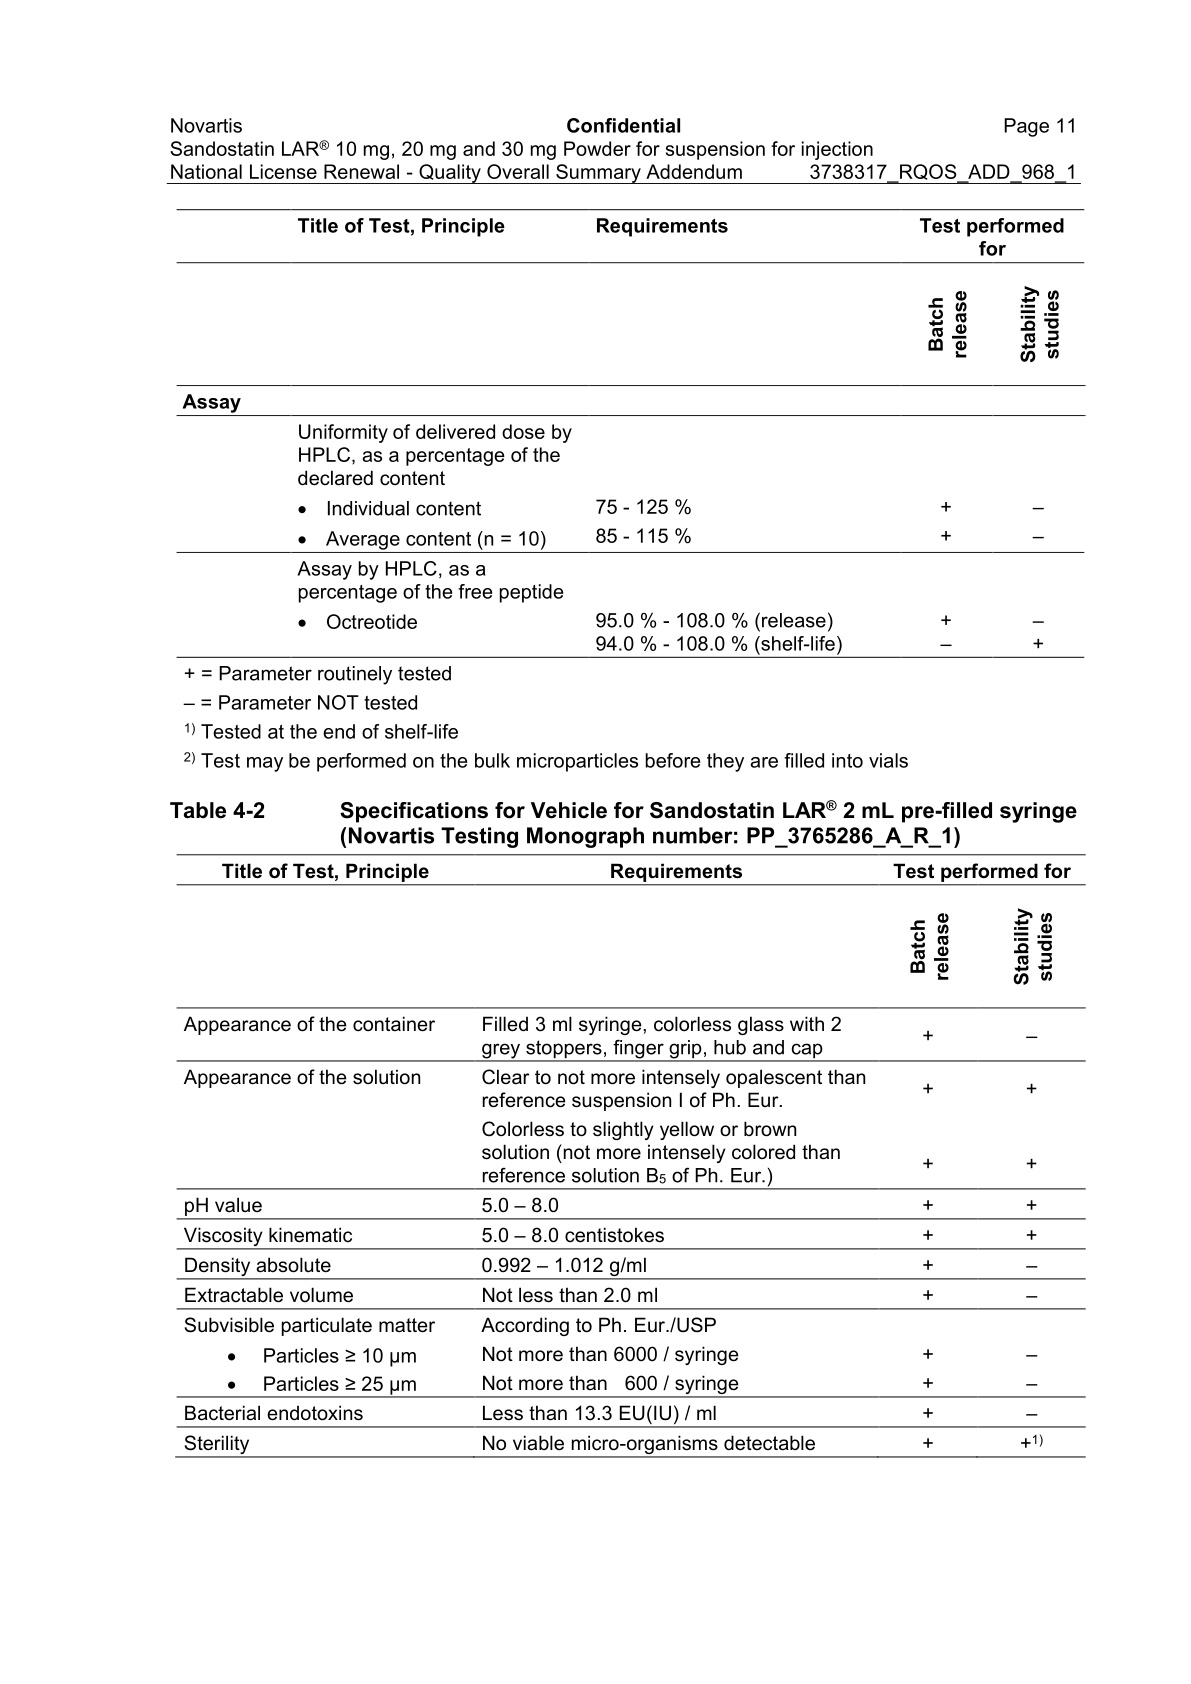partial_lined_merged_cells: (175, 853, 1087, 1459), (175, 207, 1085, 660)
